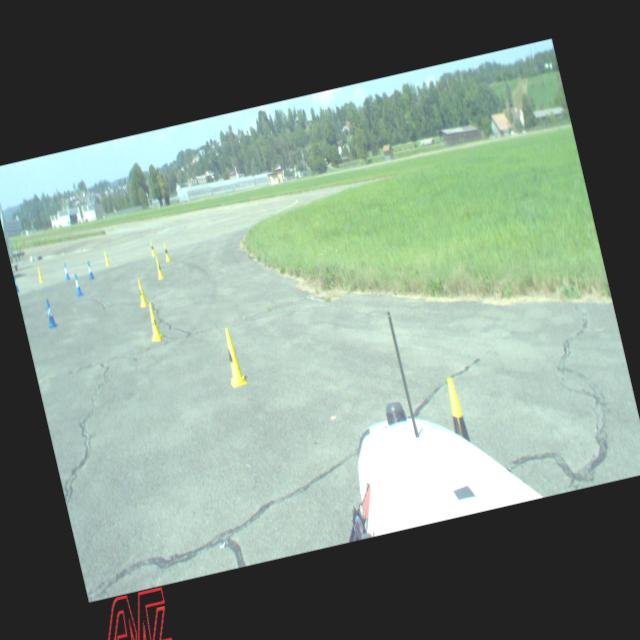blue_cone: (42, 296, 57, 328), (72, 271, 82, 297), (84, 260, 94, 280), (61, 260, 70, 280), (13, 274, 20, 293)
yellow_cone: (442, 375, 471, 445), (218, 325, 248, 388), (142, 300, 164, 343), (134, 277, 148, 308), (153, 256, 164, 280), (162, 242, 170, 262), (148, 240, 156, 256), (102, 250, 110, 266), (36, 266, 44, 282)
